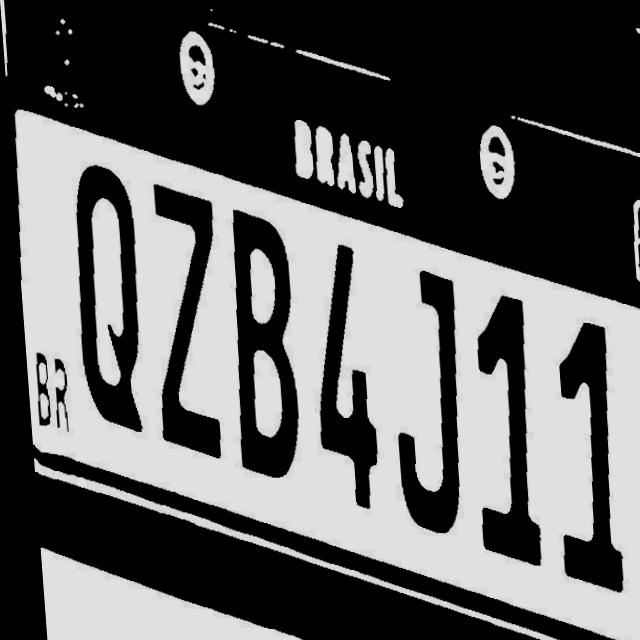1: (541, 311, 625, 596), (461, 288, 543, 562)
4: (297, 237, 390, 507)
b: (216, 203, 304, 474)
j: (380, 261, 470, 540)
q: (61, 163, 152, 428)
z: (143, 179, 230, 452)
